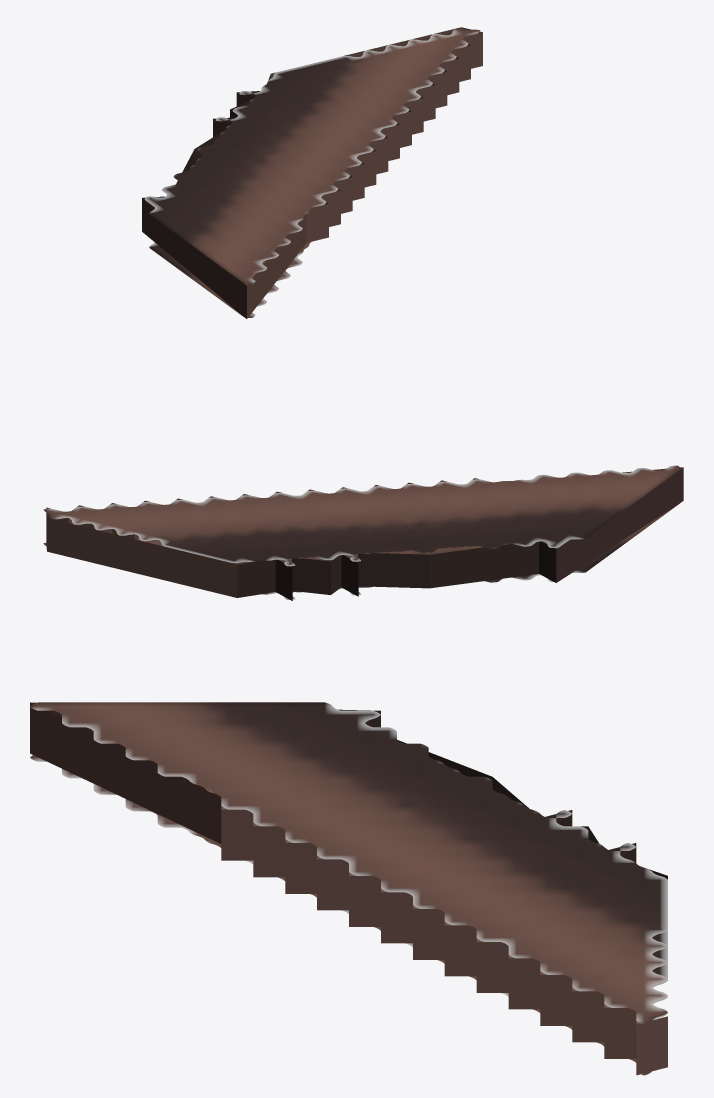
File: pz_native_fixtures_railings_01_58_frame.obj
The picture shows the model from 3 angles, top to bottom: view 1: azimuth 30°, elevation 25°; view 2: azimuth 150°, elevation 25°; view 3: azimuth 270°, elevation 25°; orthographic projection. The views are drawn at different scales.
Parts seen in each view (by area): view 1: pz_native_fixtures_railings_01_58_frame; view 2: pz_native_fixtures_railings_01_58_frame; view 3: pz_native_fixtures_railings_01_58_frame.
Part boxes in pixels (x1,y1,x2,y2): pz_native_fixtures_railings_01_58_frame: (142,27,482,318); pz_native_fixtures_railings_01_58_frame: (43,465,683,600); pz_native_fixtures_railings_01_58_frame: (30,702,667,1075).
Size of the model in its own units: 0.6406 by 0.045 by 0.5486.
1 material, 1 textured.
